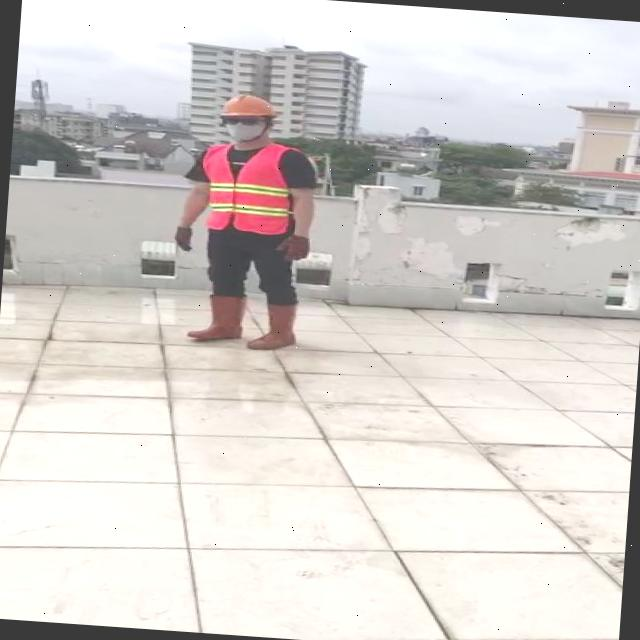boots: (185, 292, 247, 342), (250, 304, 302, 352)
